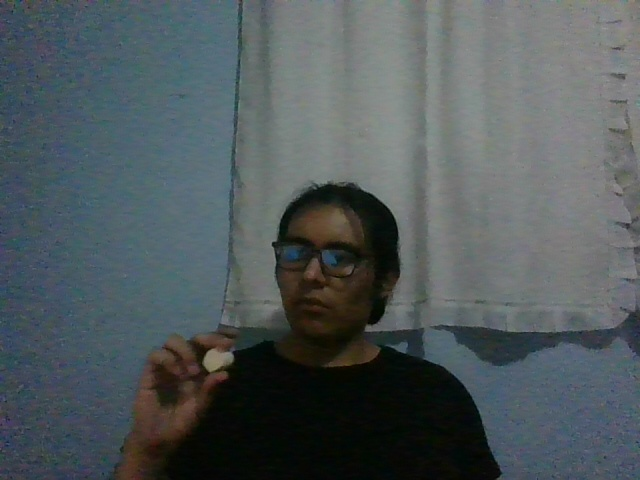goma: (202, 349, 234, 373)
